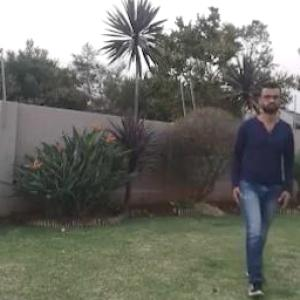follow: (232, 84, 285, 270)
